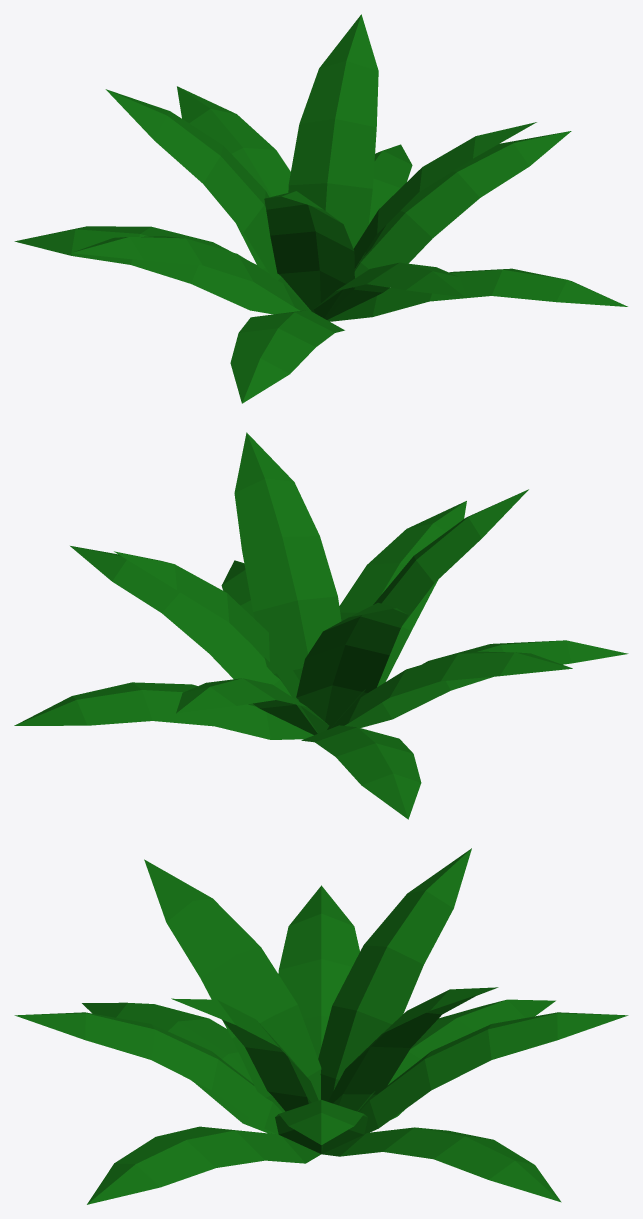
File: Grass_1.fbx
3 renders of one model, top to bottom at view 1: azimuth 30°, elevation 25°; view 2: azimuth 150°, elevation 25°; view 3: azimuth 270°, elevation 25°, orthographic. The views are drawn at different scales.
Visible parts, largest first — view 1: Grass_1; view 2: Grass_1; view 3: Grass_1.
Part boxes in pixels (bbox=[...]): Grass_1: bbox=[14, 14, 627, 403]; Grass_1: bbox=[14, 432, 628, 819]; Grass_1: bbox=[14, 848, 628, 1204].
Bounding box in the file's own units: 1.72 × 0.7139 × 1.72.
